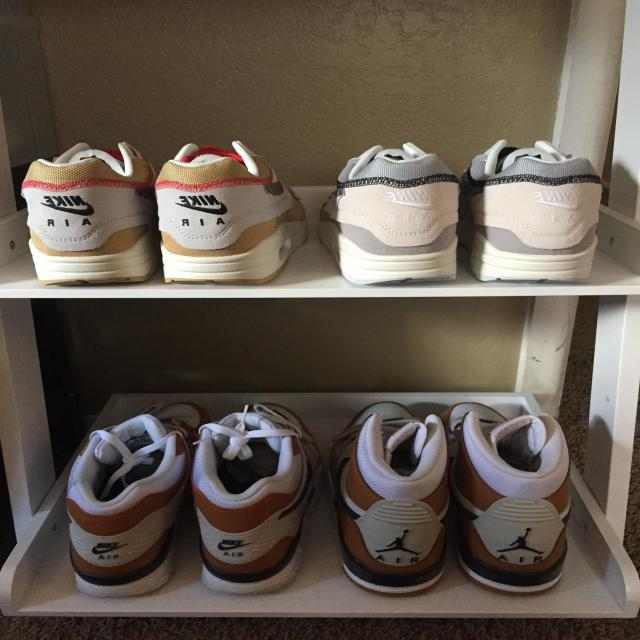shoes: (46, 396, 204, 622), (455, 398, 610, 618), (330, 394, 463, 618), (196, 390, 328, 608), (461, 122, 624, 294), (155, 118, 315, 292), (17, 114, 155, 298), (320, 120, 476, 282)
